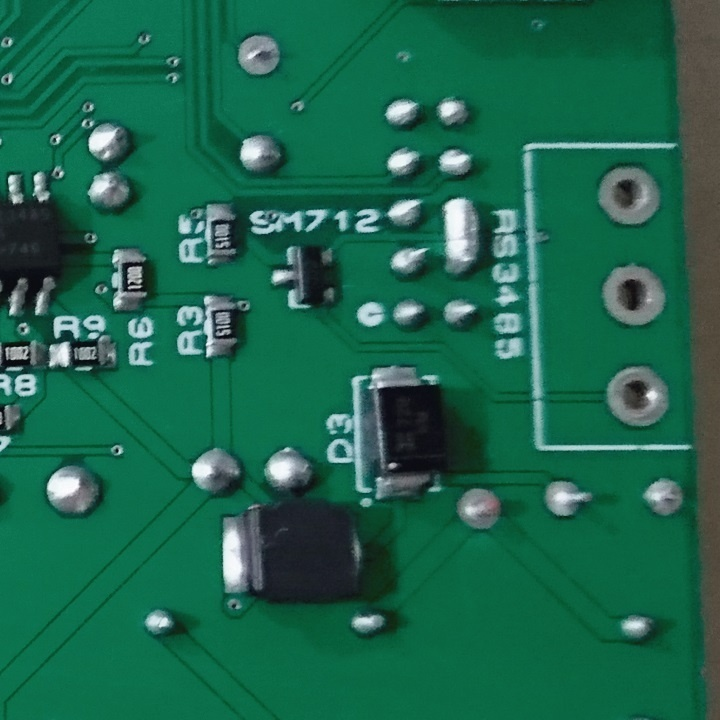F: (603, 361, 671, 430), (594, 162, 662, 229), (600, 261, 667, 329), (235, 30, 284, 82), (542, 475, 593, 523), (456, 483, 504, 534), (643, 473, 687, 518)
P: (439, 194, 485, 280)
